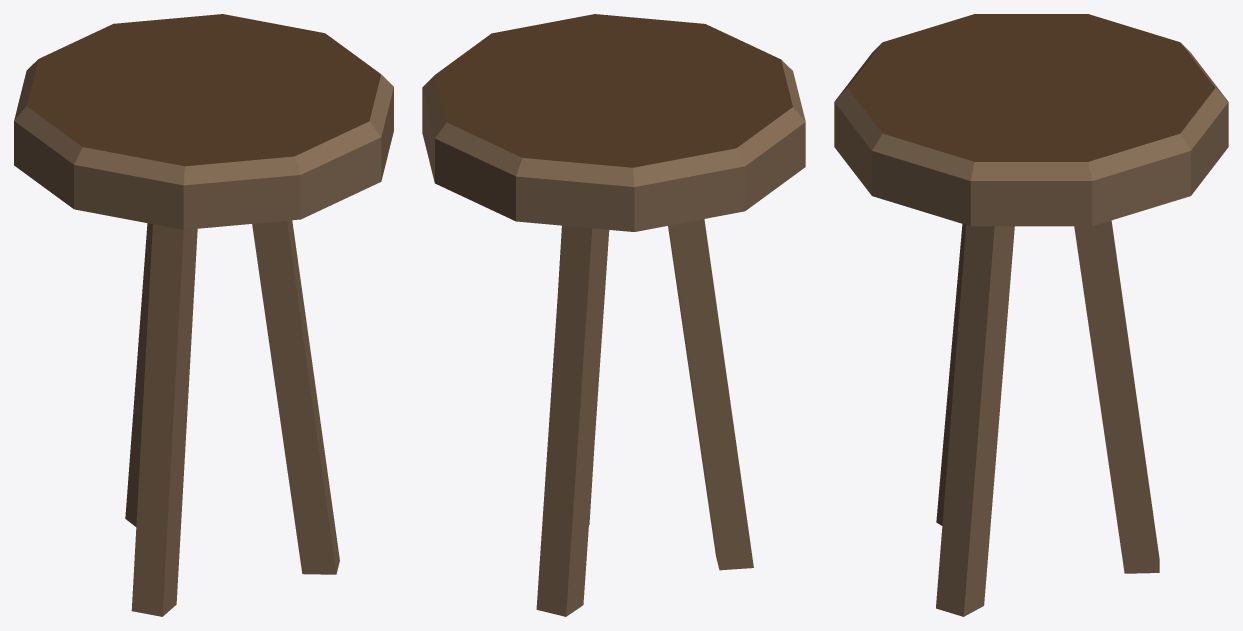
File: Stool.fbx
The picture shows the model from 3 angles, left to right: view 1: azimuth 30°, elevation 25°; view 2: azimuth 150°, elevation 25°; view 3: azimuth 270°, elevation 25°; orthographic projection.
Parts seen in each view (by area): view 1: Stool; view 2: Stool; view 3: Stool.
Part boxes in pixels (left/top/right/bottom): Stool: left=14, top=14, right=393, bottom=616; Stool: left=422, top=14, right=805, bottom=616; Stool: left=834, top=14, right=1228, bottom=616.
Bounding box in the file's own units: 343 × 361 × 484.
